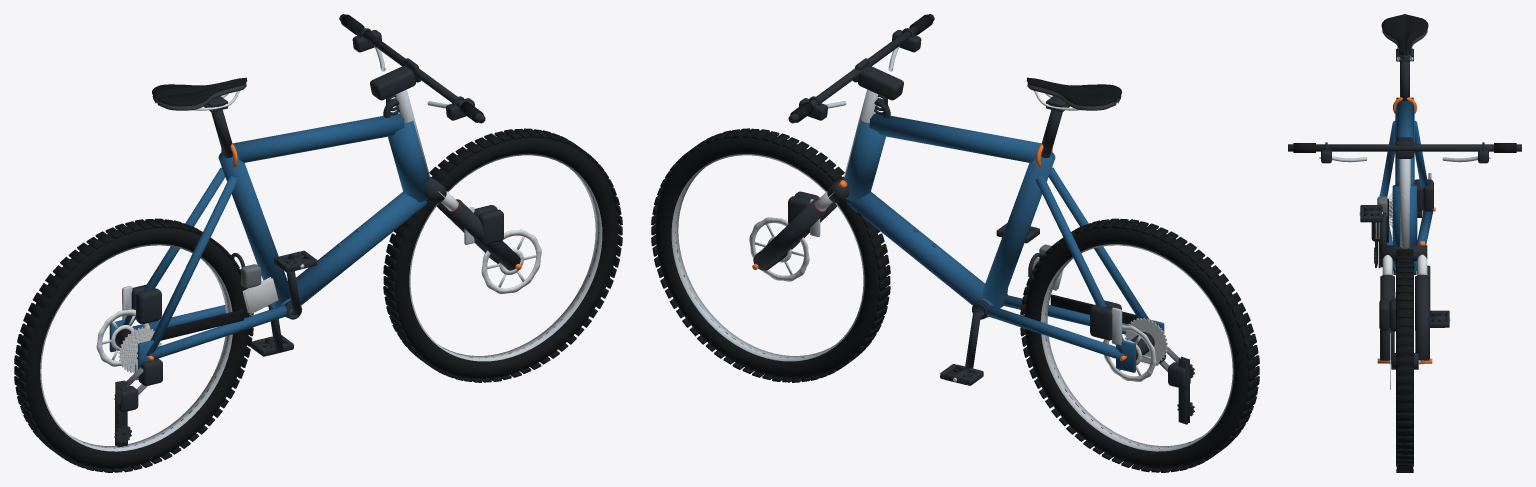
File: BicycleEngineering_LOD2.fbx
3 renders of one model, left to right at view 1: azimuth 30°, elevation 25°; view 2: azimuth 150°, elevation 25°; view 3: azimuth 270°, elevation 25°, orthographic. The views are drawn at different scales.
Parts seen in each view (by area): view 1: MM_LOD2_Bicycle; view 2: MM_LOD2_Bicycle; view 3: MM_LOD2_Bicycle.
Part boxes in pixels (bbox=[...]): MM_LOD2_Bicycle: bbox=[14, 14, 622, 472]; MM_LOD2_Bicycle: bbox=[651, 14, 1259, 472]; MM_LOD2_Bicycle: bbox=[1288, 14, 1521, 472].
Bounding box in the file's own units: 1.82 × 1.05 × 0.73.
